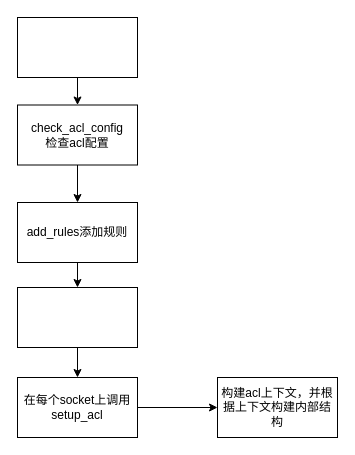
This 355x455 diagram has some shape labels left out. Here are the shapes that lost their labels. From the top down, the centre of each, then its label:
At [77,47]: "acl_init".
At [77,317]: "dump_ipv4_rules 输出添加的每条规则".
